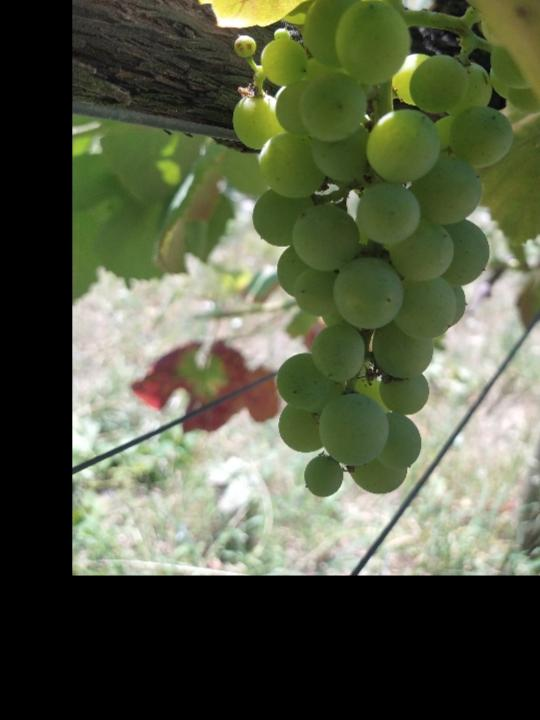grape: (231, 0, 540, 497)
